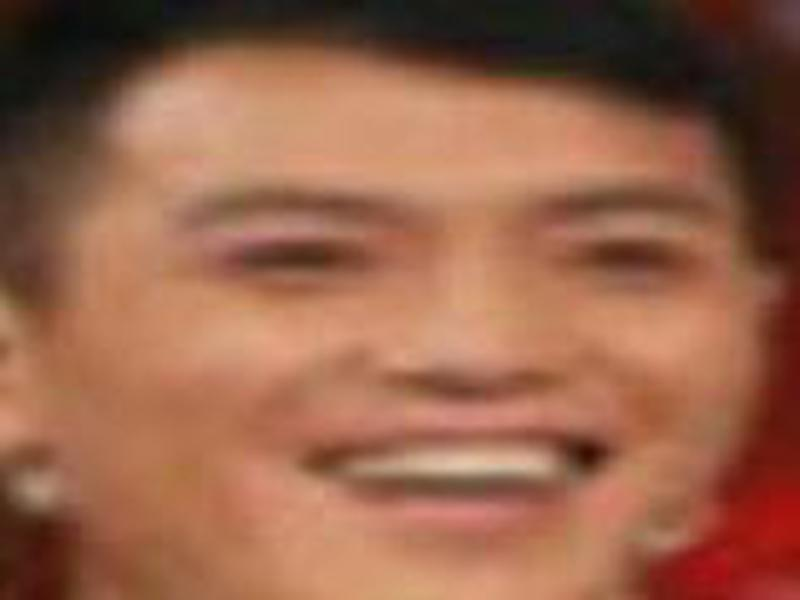without_mask: (49, 68, 761, 591)
